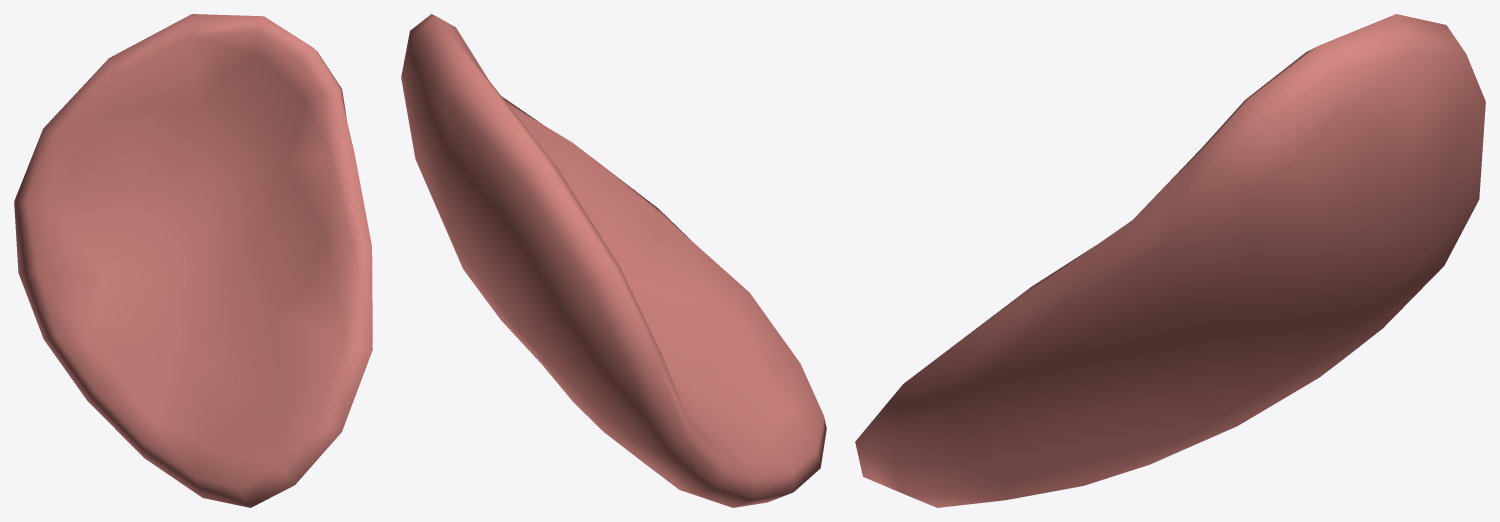
3 renders of one model, left to right at view 1: azimuth 30°, elevation 25°; view 2: azimuth 150°, elevation 25°; view 3: azimuth 270°, elevation 25°, orthographic. The views are drawn at different scales.
Parts seen in each view (by area): view 1: ZA_040055ed92862754; view 2: ZA_040055ed92862754; view 3: ZA_040055ed92862754.
Part boxes in pixels (box(x1,y1,x2,y2)): ZA_040055ed92862754: box(14, 14, 372, 507); ZA_040055ed92862754: box(401, 14, 826, 507); ZA_040055ed92862754: box(855, 14, 1485, 507).
Bounding box in the file's own units: 0.00323 × 0.00437 × 0.00437.
